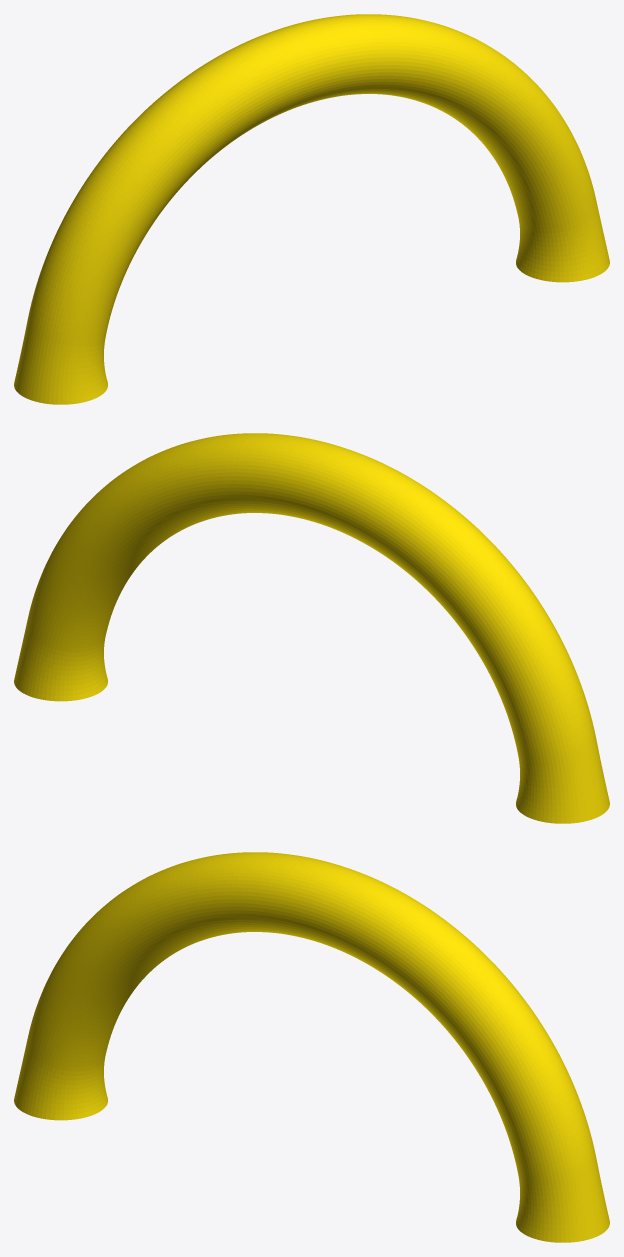
File: arch_yellow.glb
3 views of the same model, one above another, from view 1: azimuth 30°, elevation 25°; view 2: azimuth 150°, elevation 25°; view 3: azimuth 330°, elevation 25° (orthographic).
Visible parts, largest first — view 1: geometry_0; view 2: geometry_0; view 3: geometry_0.
Part boxes in pixels (<box>): geometry_0: <box>14,14,609,404</box>; geometry_0: <box>14,433,609,823</box>; geometry_0: <box>14,852,609,1242</box>.
Size of the model in its own units: 10.46 by 5.12 by 1.46.
